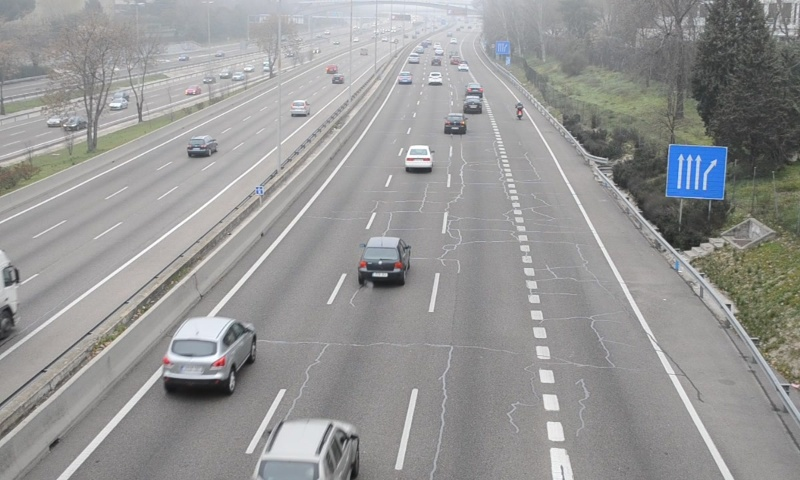car: (254, 418, 359, 480), (164, 318, 255, 386), (358, 237, 410, 282), (406, 144, 434, 170), (443, 113, 466, 135), (463, 96, 483, 114), (426, 70, 444, 86), (466, 82, 484, 96)
motorcycle: (514, 101, 524, 121)
